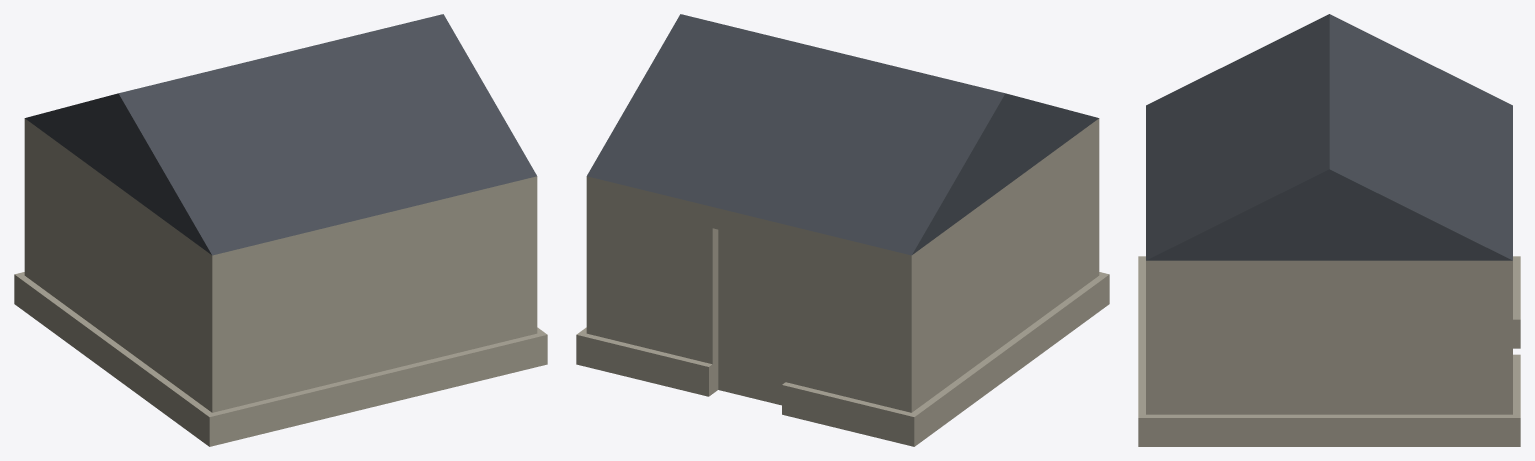
3 views of the same model, side by side, from view 1: azimuth 30°, elevation 25°; view 2: azimuth 150°, elevation 25°; view 3: azimuth 270°, elevation 25° (orthographic). The views are drawn at different scales.
Parts seen in each view (by area): view 1: body_stone, roof_slate, trim_stone; view 2: body_stone, roof_slate, trim_stone; view 3: roof_slate, body_stone, trim_stone.
Part boxes in pixels (<box>): body_stone: <box>24,118,537,412</box>; roof_slate: <box>25,14,536,255</box>; trim_stone: <box>14,272,547,446</box>; body_stone: <box>586,118,1099,412</box>; roof_slate: <box>587,14,1098,255</box>; trim_stone: <box>576,272,1109,446</box>; roof_slate: <box>1146,14,1512,260</box>; body_stone: <box>1146,260,1512,414</box>; trim_stone: <box>1138,256,1520,446</box>.
Size of what is drawn, in the model's own units: 4.16 by 3.3 by 4.16.
